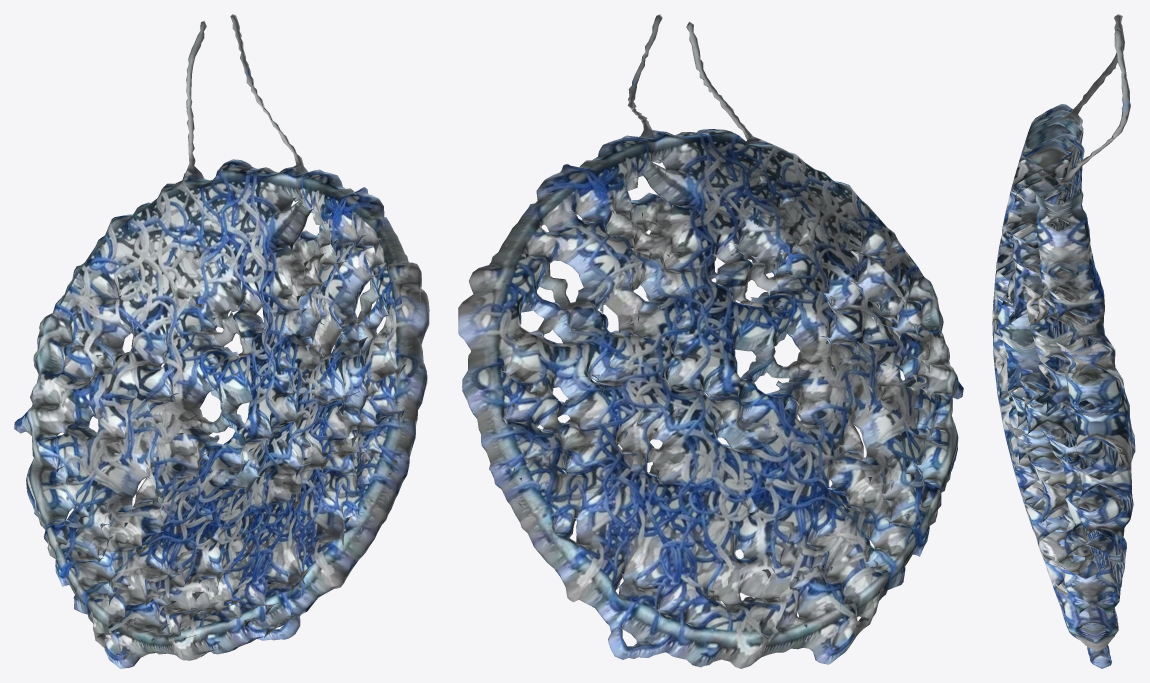
The model's file is hy3d-mov019.glb.
3 renders of one model, left to right at view 1: azimuth 30°, elevation 25°; view 2: azimuth 150°, elevation 25°; view 3: azimuth 270°, elevation 25°, orthographic. The views are drawn at different scales.
Parts seen in each view (by area): view 1: world; view 2: world; view 3: world.
Boxes of the visible parts, box(x1,y1,x2,y2) form: world: box(14, 14, 429, 668); world: box(458, 14, 963, 668); world: box(992, 14, 1135, 668).
Bounding box in the file's own units: 1.59 × 2.15 × 0.4498.
1 material, 1 textured.
